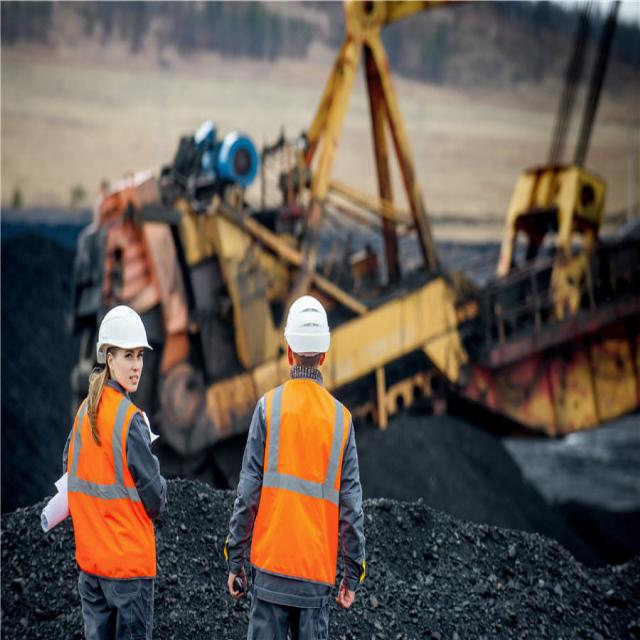Reflective-Jacket: (247, 376, 355, 584), (63, 385, 158, 578)
Safety-Helmet: (279, 288, 333, 358), (93, 299, 154, 356)
